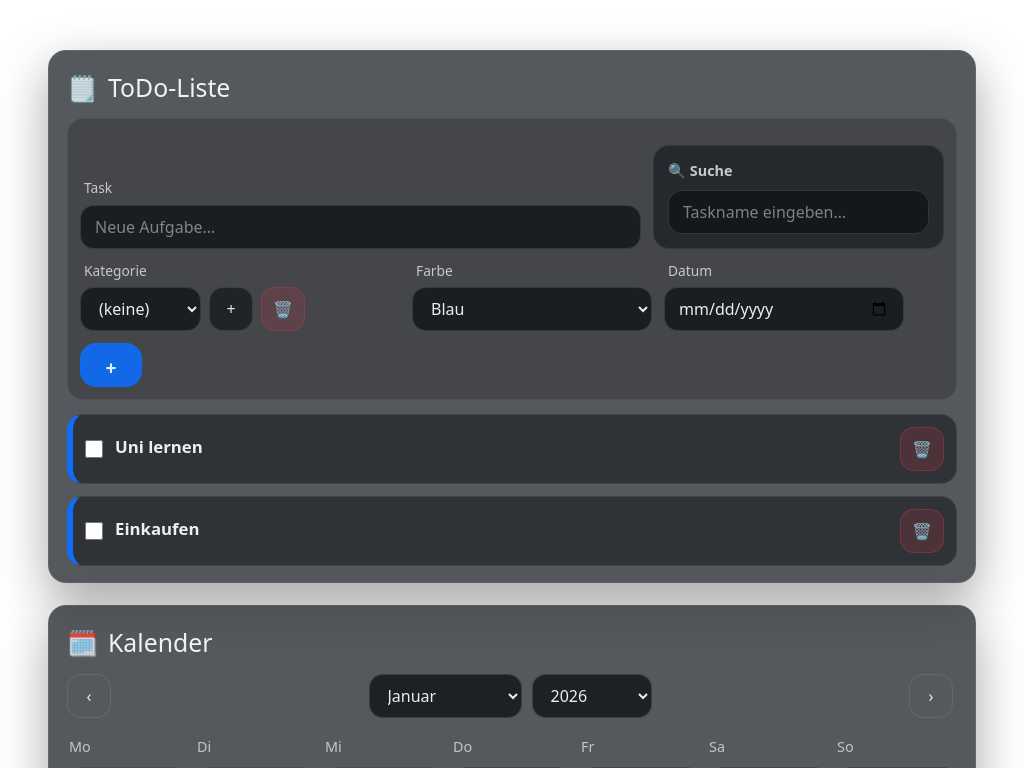
Test: TodoList › Suchleiste filtert Tasks nach Name
Expected: the text "Uni lernen" is shown, 115,435 -> 203,458
Type "Uni" into the field with placeholder "Taskname eingeben…". click: (798, 212)
box: 668,190 -> 929,234
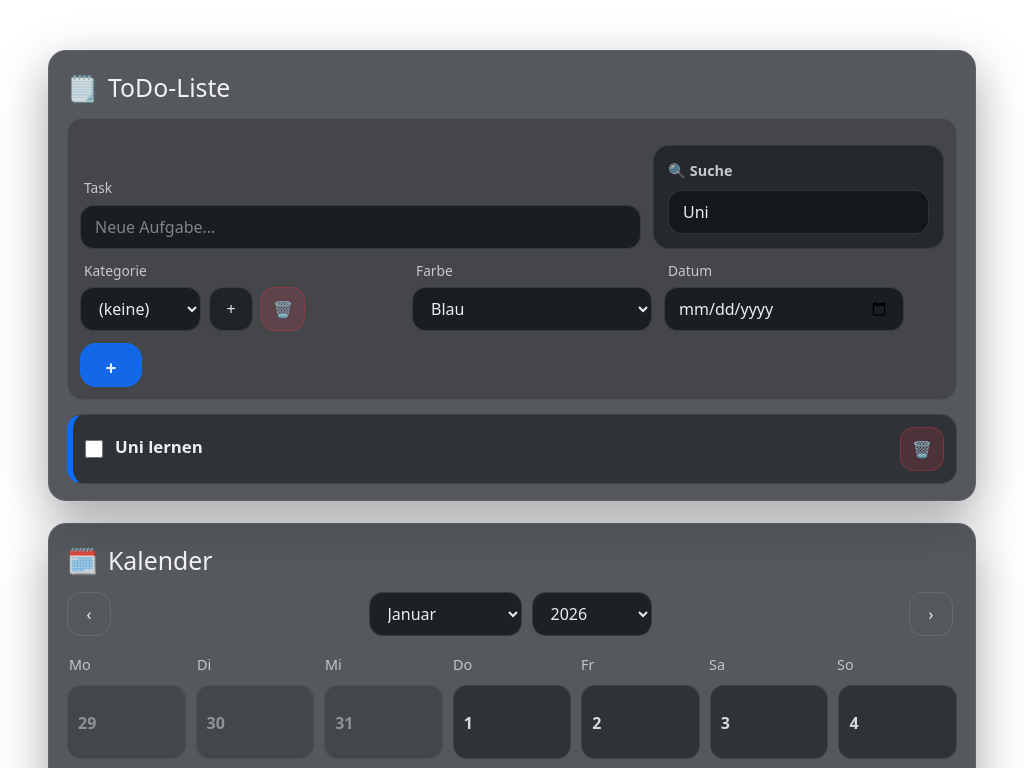
Expected: the text "Uni lernen" is shown, 115,435 -> 203,458
Result: the text "Einkaufen" is gone
